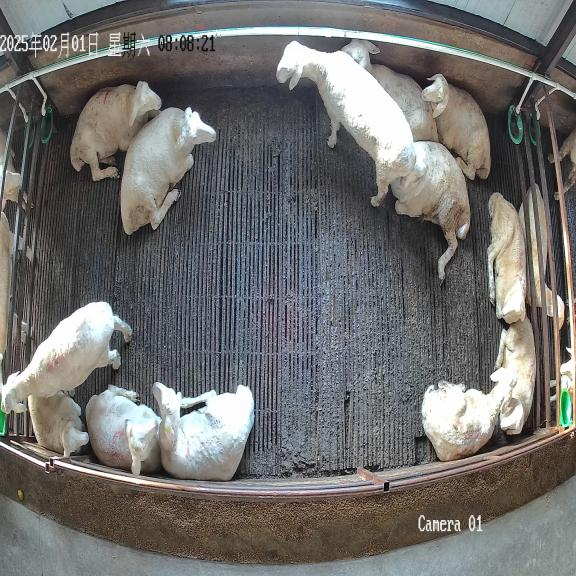lying: (120, 107, 216, 234), (391, 141, 470, 282), (341, 39, 439, 142), (153, 383, 254, 481), (70, 81, 161, 180), (421, 368, 517, 461), (421, 74, 490, 180), (86, 385, 162, 474), (491, 315, 536, 434), (487, 192, 526, 324), (28, 391, 89, 456)
stand: (276, 41, 415, 206), (1, 302, 132, 414)
